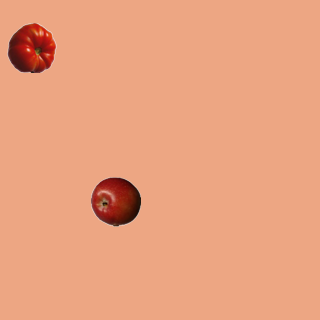Apple Braeburn: (90, 176, 140, 226)
Tomato 3: (6, 22, 56, 72)
